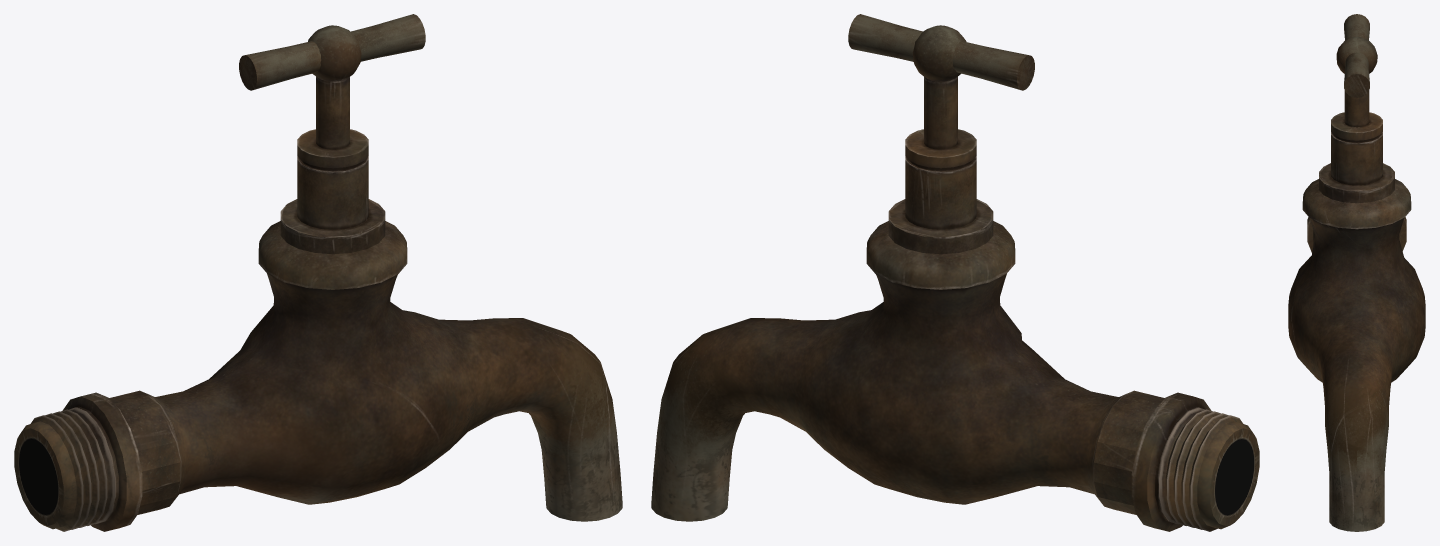
File: water_tap.glb
The picture shows the model from 3 angles, left to right: view 1: azimuth 30°, elevation 25°; view 2: azimuth 150°, elevation 25°; view 3: azimuth 270°, elevation 25°; orthographic projection. The views are drawn at different scales.
Parts seen in each view (by area): view 1: Wasserhahn; view 2: Wasserhahn; view 3: Wasserhahn.
Part boxes in pixels (box(x1,y1,x2,y2)): Wasserhahn: box(14, 14, 622, 531); Wasserhahn: box(651, 14, 1259, 531); Wasserhahn: box(1288, 14, 1425, 531).
Bounding box in the file's own units: 32.97 × 29.31 × 9.3.
1 material, 1 textured.
